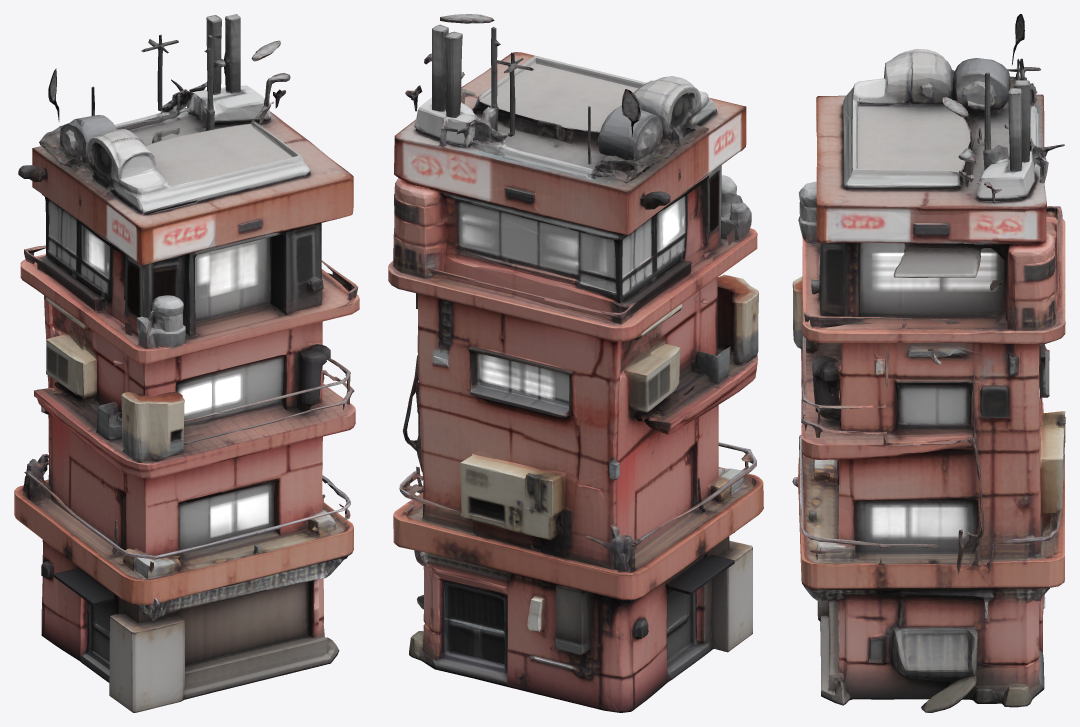
The model's file is anime-residential-building.glb.
3 views of the same model, side by side, from view 1: azimuth 30°, elevation 25°; view 2: azimuth 150°, elevation 25°; view 3: azimuth 270°, elevation 25° (orthographic). The views are drawn at different scales.
Parts seen in each view (by area): view 1: anime-apartment-building1.003; view 2: anime-apartment-building1.003; view 3: anime-apartment-building1.003.
Boxes of the visible parts, left/top/right/bottom form: anime-apartment-building1.003: left=14, top=14, right=359, bottom=712; anime-apartment-building1.003: left=388, top=14, right=763, bottom=712; anime-apartment-building1.003: left=792, top=14, right=1065, bottom=712.
Size of the model in its own units: 13.92 by 29.39 by 12.06.
Materials: 1 (1 with a texture image).
